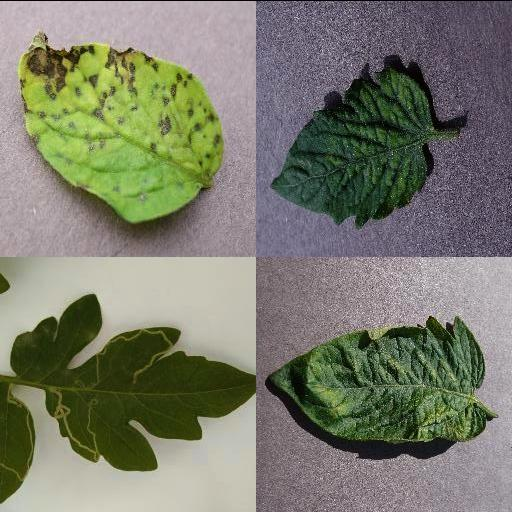Leaf Miner: (10, 291, 256, 470)
Mosaic Virus: (268, 62, 434, 228)
Septoria: (19, 30, 225, 222)
Spider Mites: (265, 313, 489, 443)
